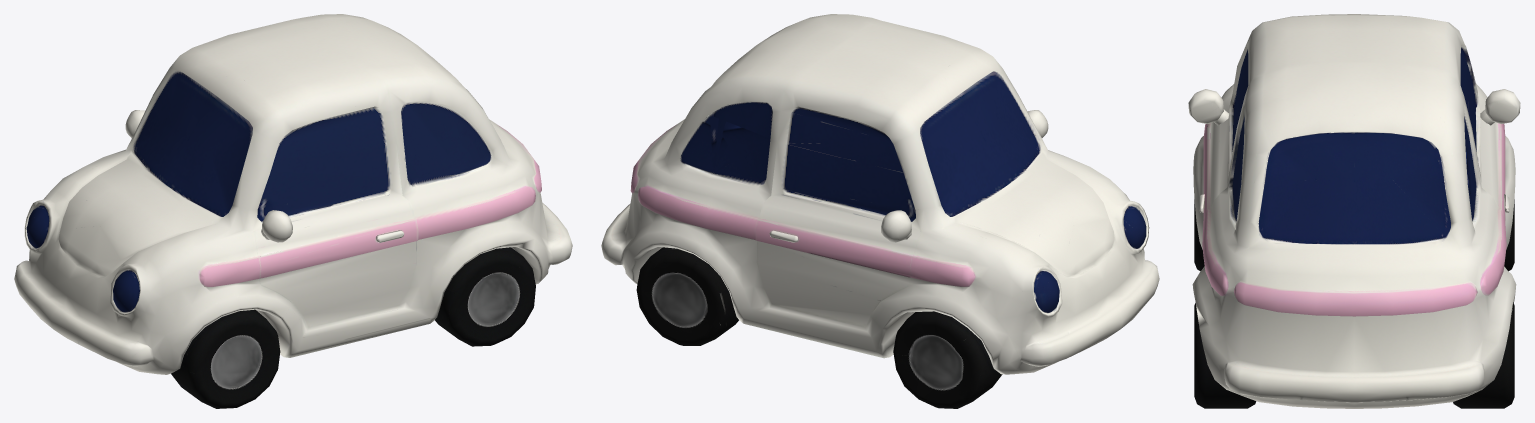
The model's file is car_hatch.glb.
The picture shows the model from 3 angles, left to right: view 1: azimuth 30°, elevation 25°; view 2: azimuth 150°, elevation 25°; view 3: azimuth 270°, elevation 25°; orthographic projection. The views are drawn at different scales.
Size of the model in its own units: 0.9575 by 0.5142 by 0.5259.
1 material, 1 textured.
